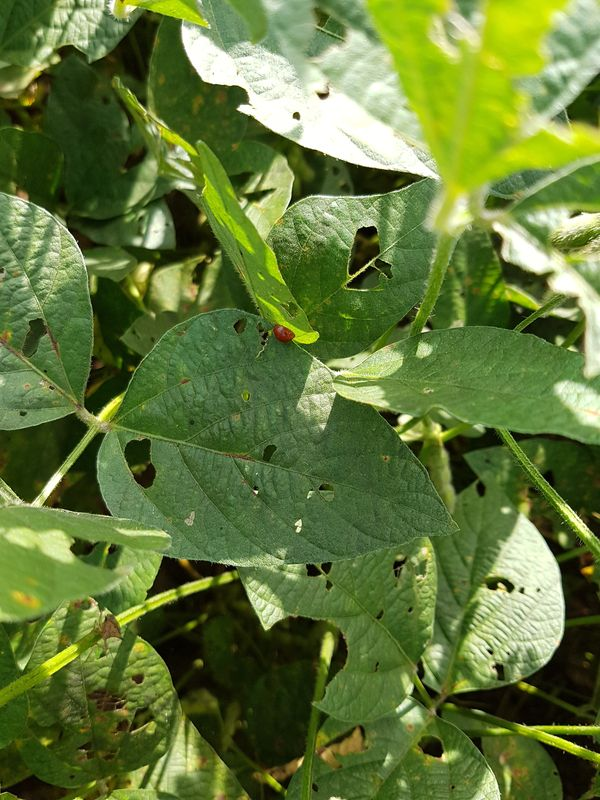Coccinellidae: (267, 317, 303, 351)
Euschistus_heros_adulto: (82, 606, 131, 655)
